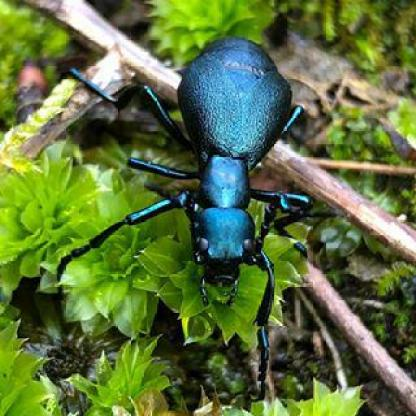beetle: (77, 32, 302, 376)
